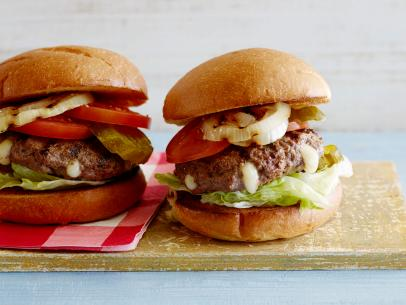hamburger: (161, 56, 354, 241), (1, 49, 150, 228)
